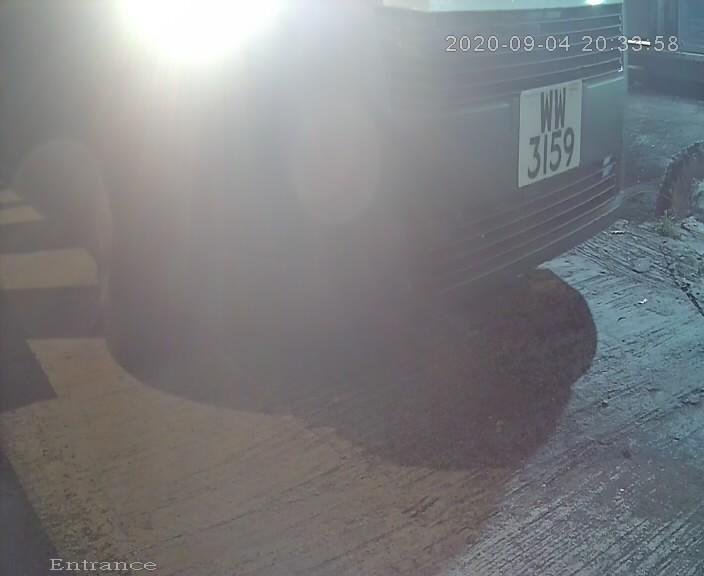License Plate: (503, 67, 591, 201)
